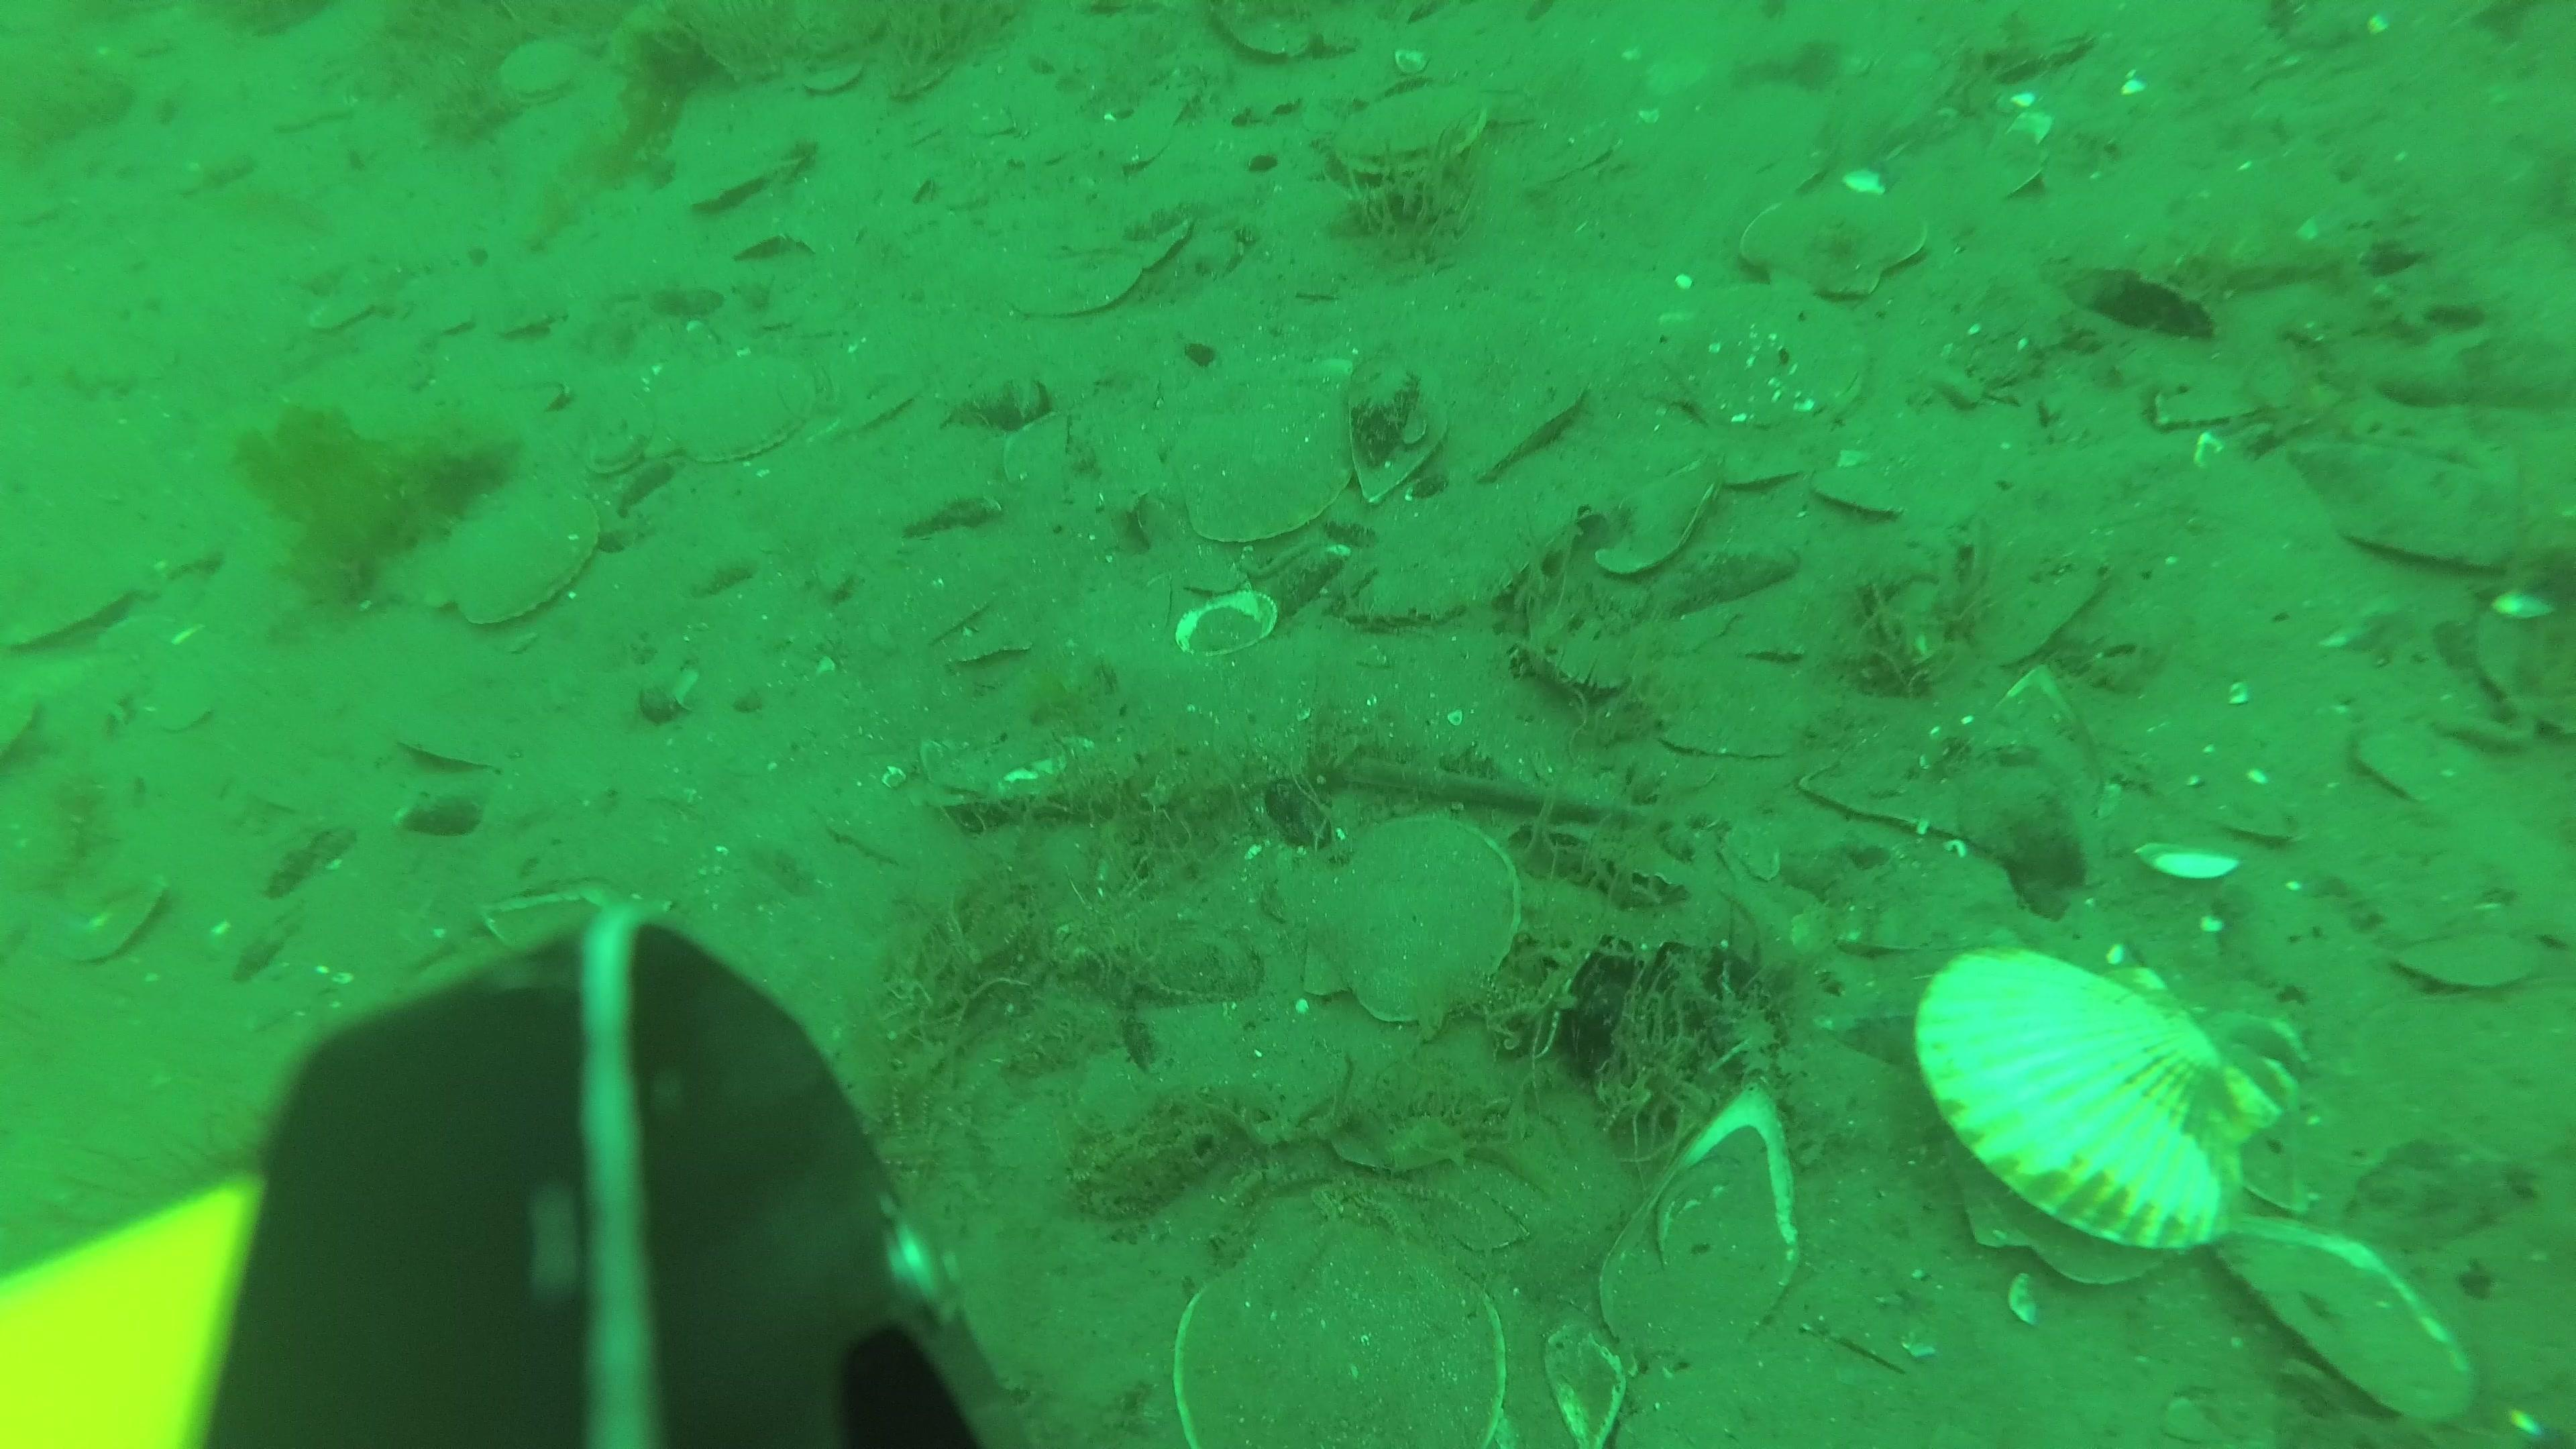scallop: (1921, 936, 2296, 1281), (1283, 796, 1527, 1031), (1670, 272, 1872, 441), (425, 490, 614, 640), (1171, 407, 1355, 550), (1744, 177, 1936, 303), (1435, 350, 1594, 495), (1582, 430, 1721, 575), (646, 347, 805, 467), (1327, 78, 1495, 189), (1821, 425, 1967, 517), (2396, 927, 2555, 996), (681, 126, 810, 209), (494, 30, 594, 110)
